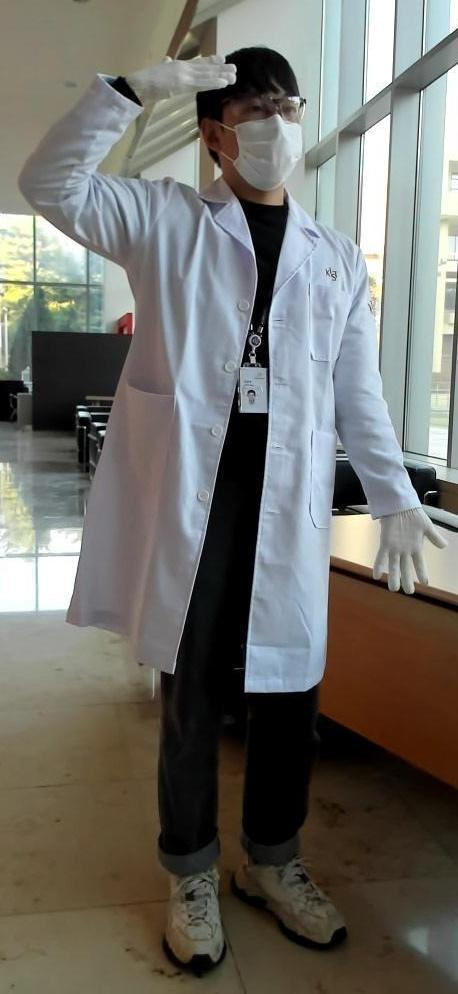lab_coat: (40, 160, 378, 684)
